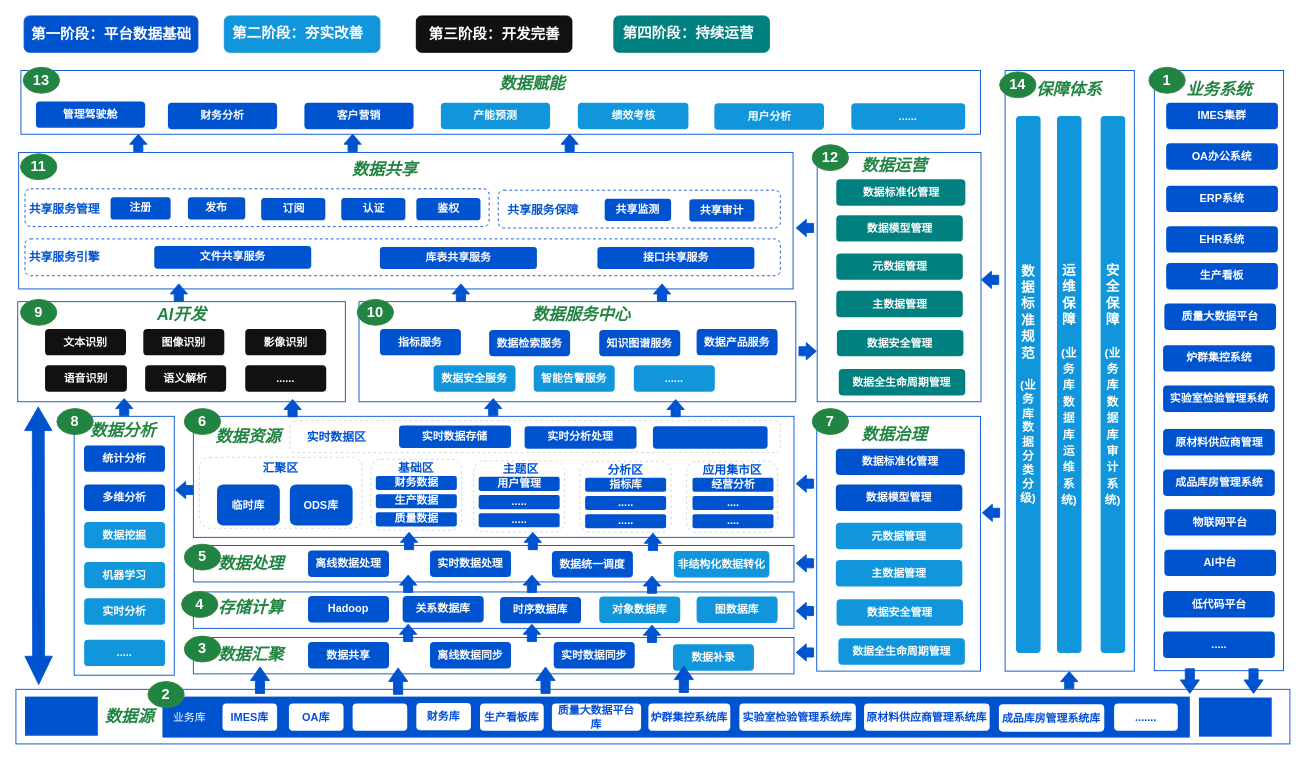
This 1306x760 diagram has some shape labels left out. The shapes that lost their labels are listed below. From the top down, each one's centre as x and y in pixels, then its label:
point 709,437: 实时指标计算
point 61,715: 向量化数据库
point 379,716: ERP 库
point 1234,716: IOT数据库
